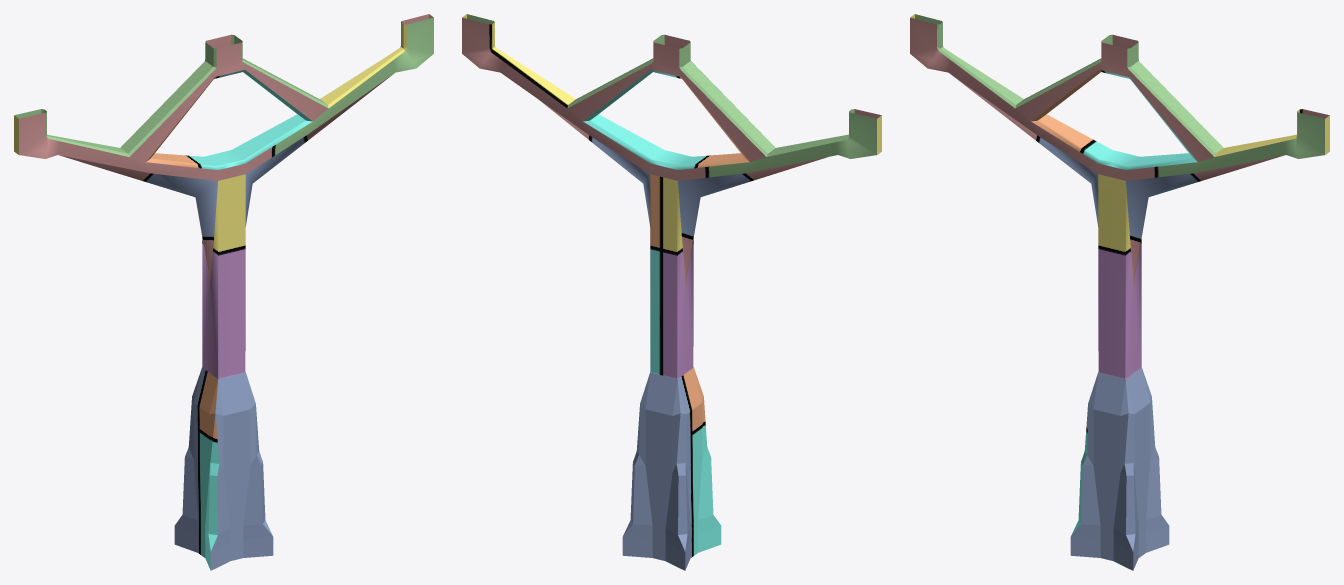
Rendered from CWR_Large_Pillar.fbx.
3 renders of one model, left to right at view 1: azimuth 30°, elevation 25°; view 2: azimuth 150°, elevation 25°; view 3: azimuth 330°, elevation 25°, orthographic.
Parts seen in each view (by area): view 1: Platforms_LargePillar; view 2: Platforms_LargePillar; view 3: Platforms_LargePillar.
Boxes of the visible parts, bbox=[...] form: Platforms_LargePillar: bbox=[14, 14, 433, 570]; Platforms_LargePillar: bbox=[462, 14, 881, 570]; Platforms_LargePillar: bbox=[910, 14, 1329, 570].
Size of the model in its own units: 311 by 364 by 46.65.
